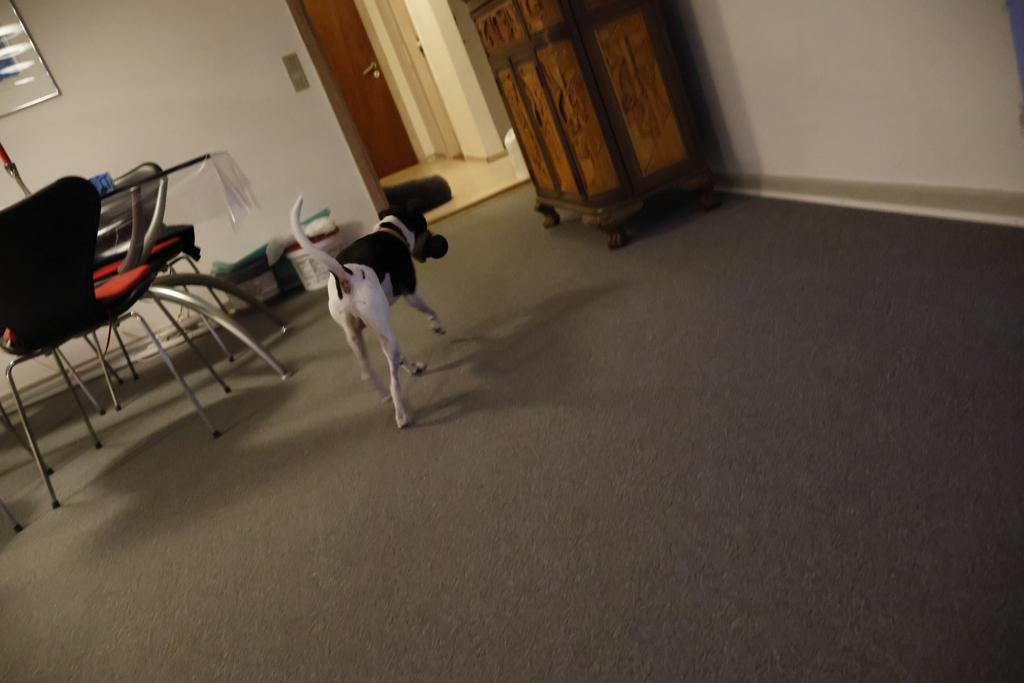Dog: (276, 181, 466, 444)
